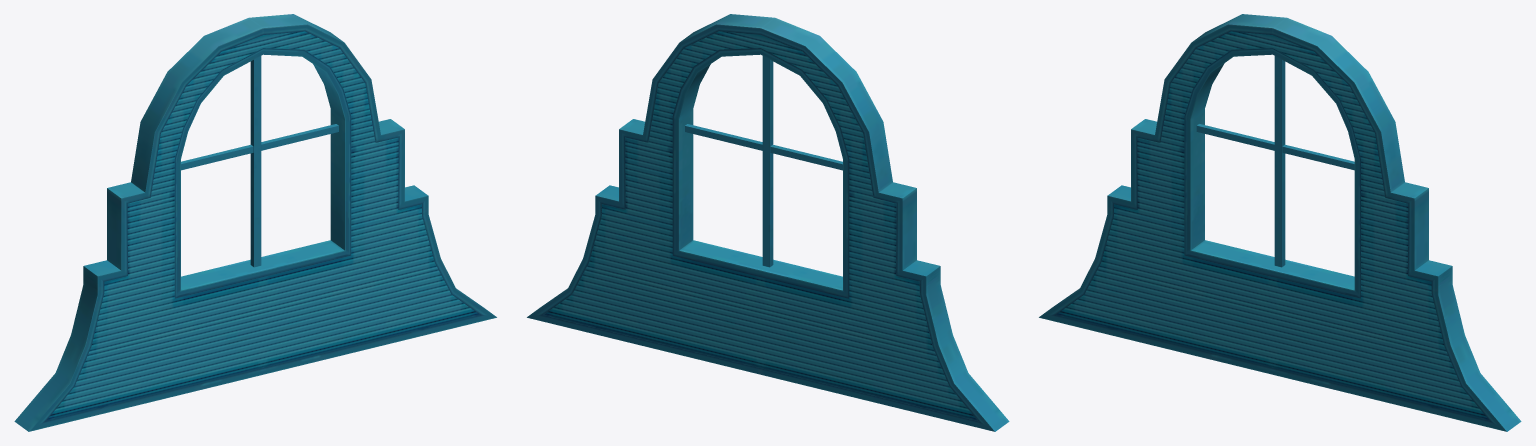
File: furni_0200043_02.FBX
The picture shows the model from 3 angles, left to right: view 1: azimuth 30°, elevation 25°; view 2: azimuth 150°, elevation 25°; view 3: azimuth 330°, elevation 25°; orthographic projection.
Parts seen in each view (by area): view 1: furni_0200043; view 2: furni_0200043; view 3: furni_0200043.
Boxes of the visible parts, box(x1,y1,x2,y2) form: furni_0200043: box(14, 14, 496, 431); furni_0200043: box(527, 14, 1009, 431); furni_0200043: box(1039, 14, 1521, 431).
Bounding box in the file's own units: 398 × 281 × 21.
